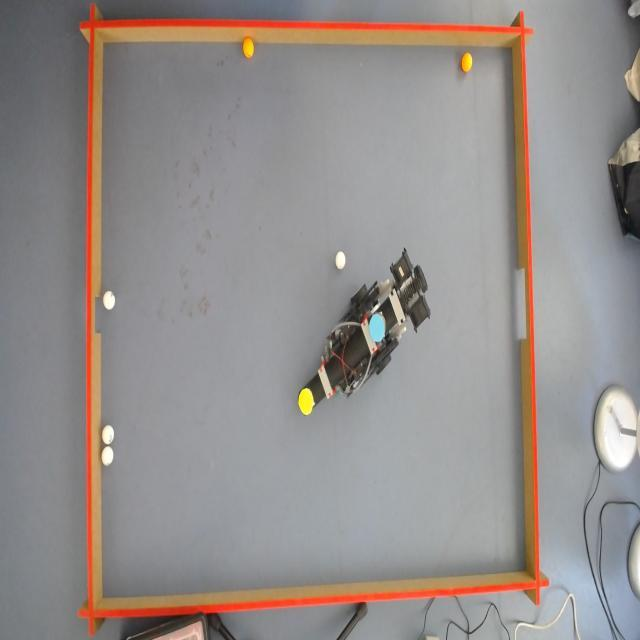orange: (462, 52, 476, 73), (242, 39, 254, 60)
robot: (298, 268, 426, 412)
robot-front: (297, 385, 316, 418)
robot-rear: (368, 310, 386, 342)
white: (100, 446, 113, 468), (100, 426, 114, 445), (104, 290, 115, 311), (336, 252, 346, 270)
